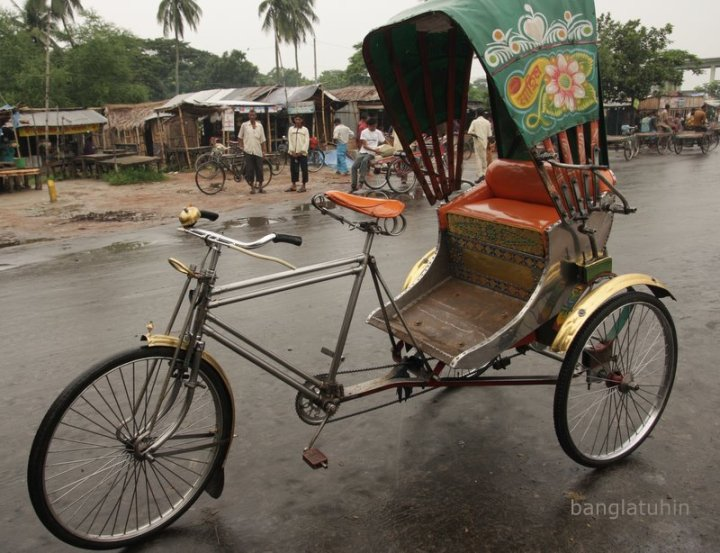Rickshaw: (36, 6, 666, 549)
